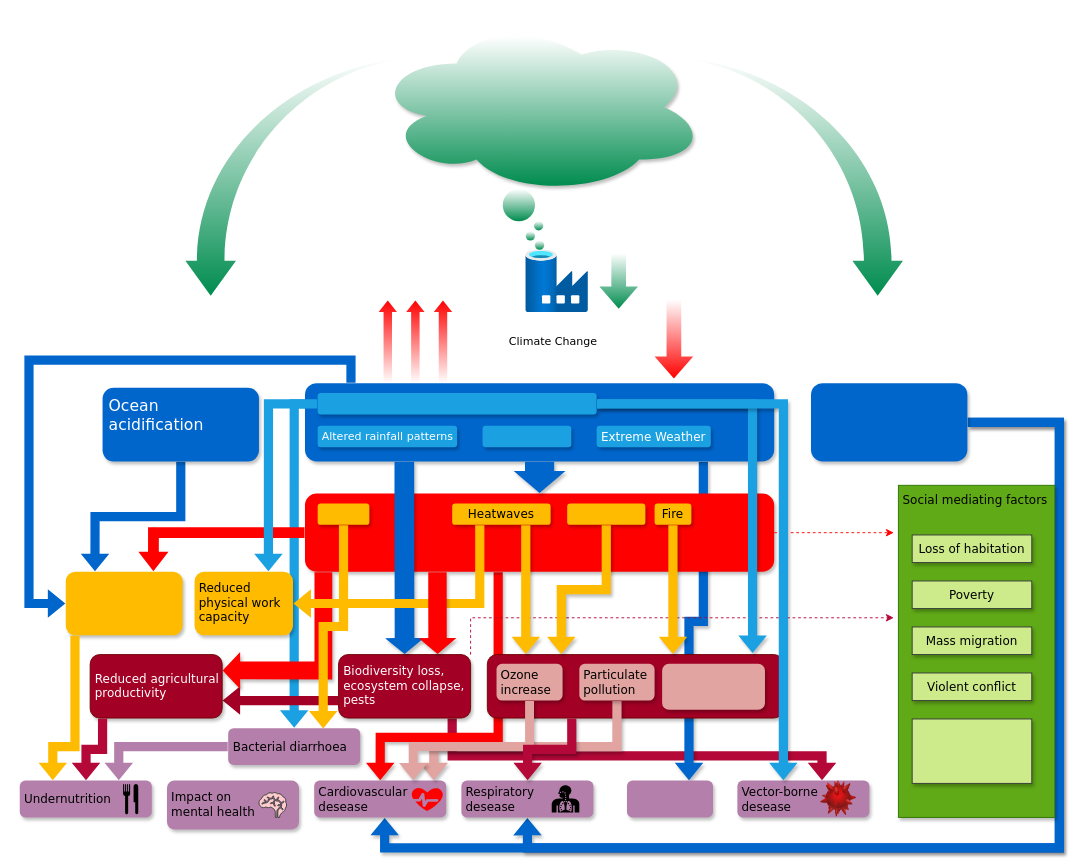
Image size: 1079x868. Some labels were removed from this diagram. Each missing label, with the centre of its shape:
"Drought" goes at (606,515).
"Flood" goes at (344,515).
"Greenhouse gas emissions" goes at (540,108).
"Harmful algal blooms" goes at (670,799).
"Other air pollutants (e.g., particulates)" goes at (889,423).
"Other social determinants of health" goes at (972,752).
"Pollen allergenicity burden" goes at (714,688).
"Raised average and extreme temperatures" goes at (458,404).
"Reduced fishery and aquacultural productivity" goes at (125,604).
"Sea-level rise" goes at (527,437).
